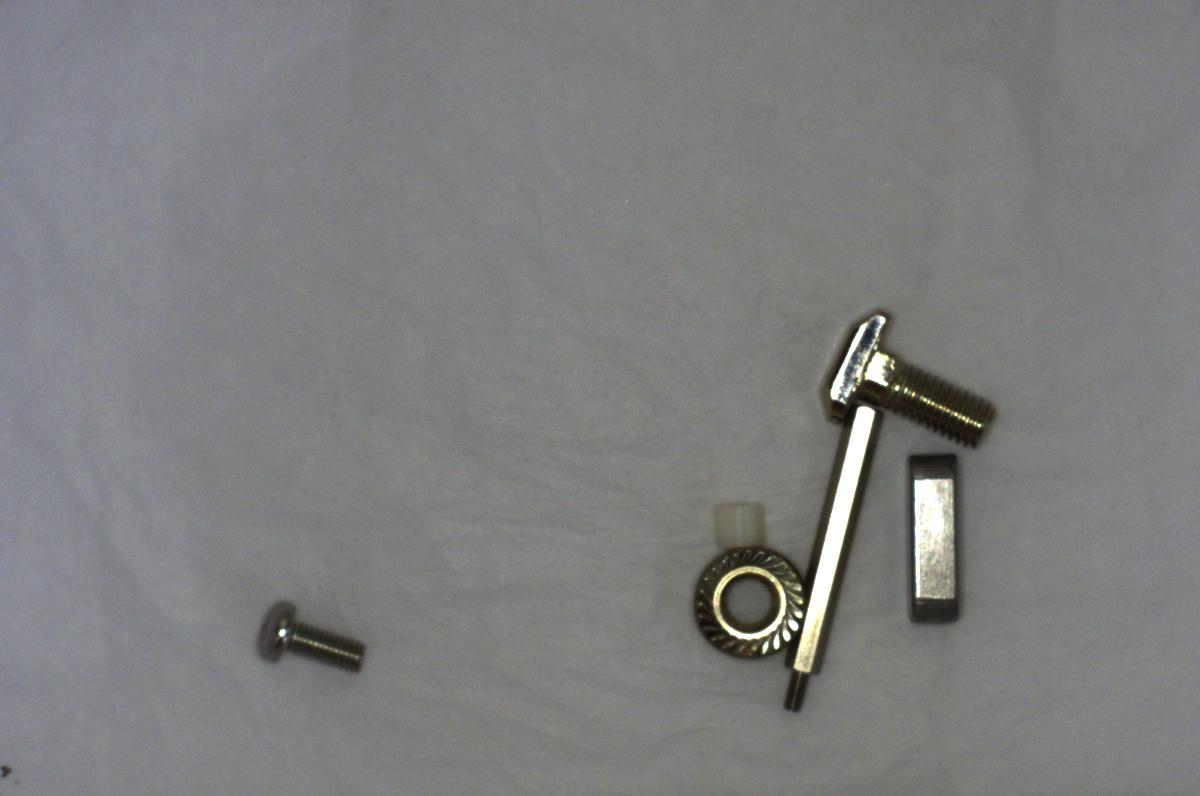Flange nut: (685, 539, 825, 673)
Hexagonal steel column: (753, 386, 884, 724)
Keybar: (897, 449, 974, 631)
Plastic cushion pillar: (702, 489, 778, 558)
Round head screw: (234, 582, 392, 687)
T-shaped screw: (803, 296, 1007, 449)
